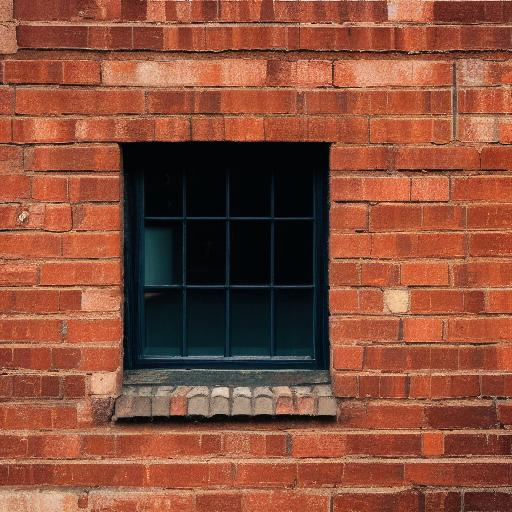Window: (105, 141, 345, 419)
